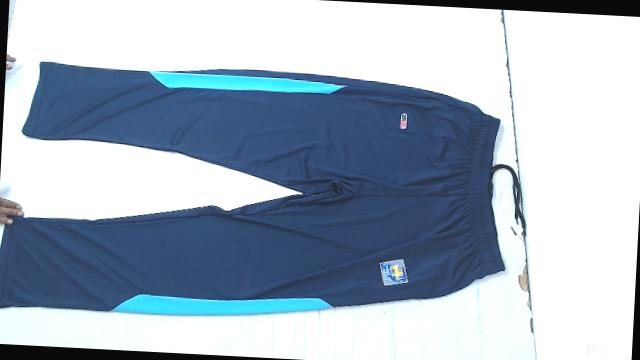new-garment: (0, 62, 505, 314)
